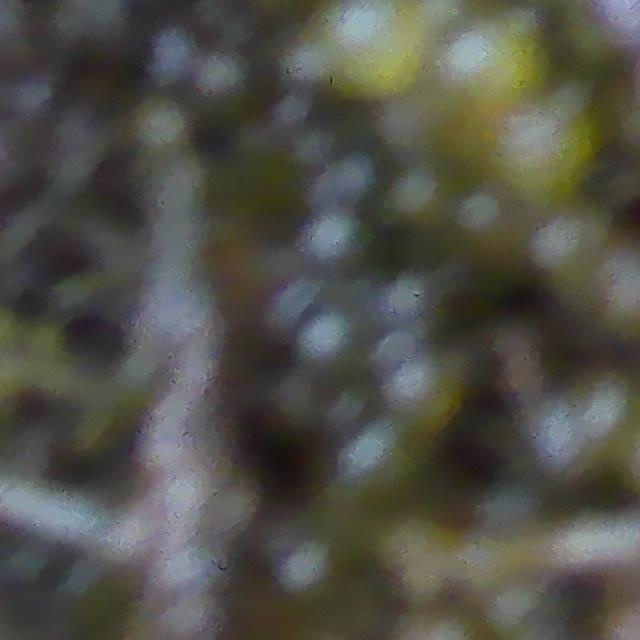SeaGrape: (323, 0, 426, 110)
